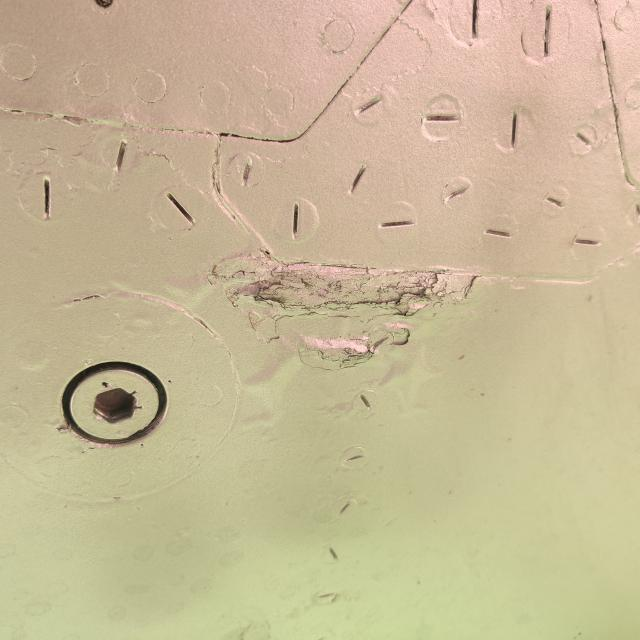paint-off: (200, 242, 488, 384)
